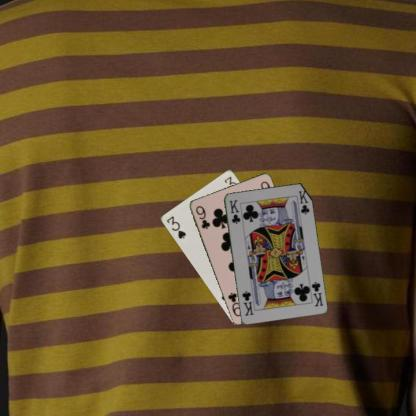3s: (164, 213, 187, 240)
9c: (193, 203, 211, 230)
Kc: (226, 197, 242, 225), (309, 279, 324, 307)
